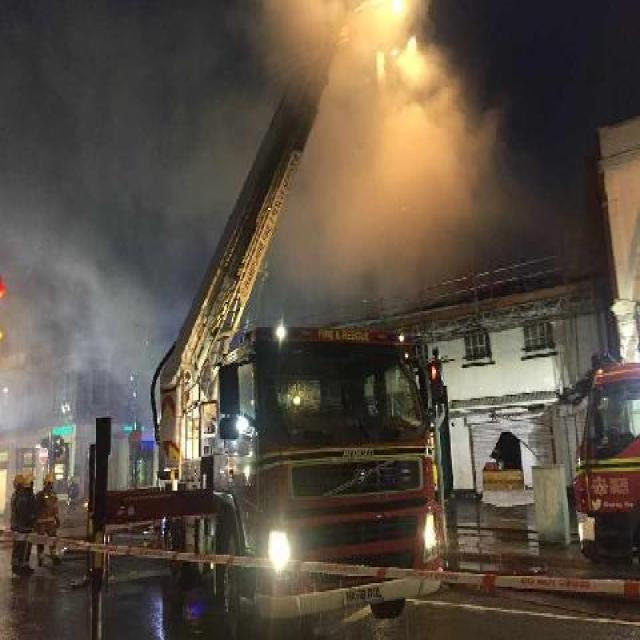smoke: (320, 86, 488, 257)
